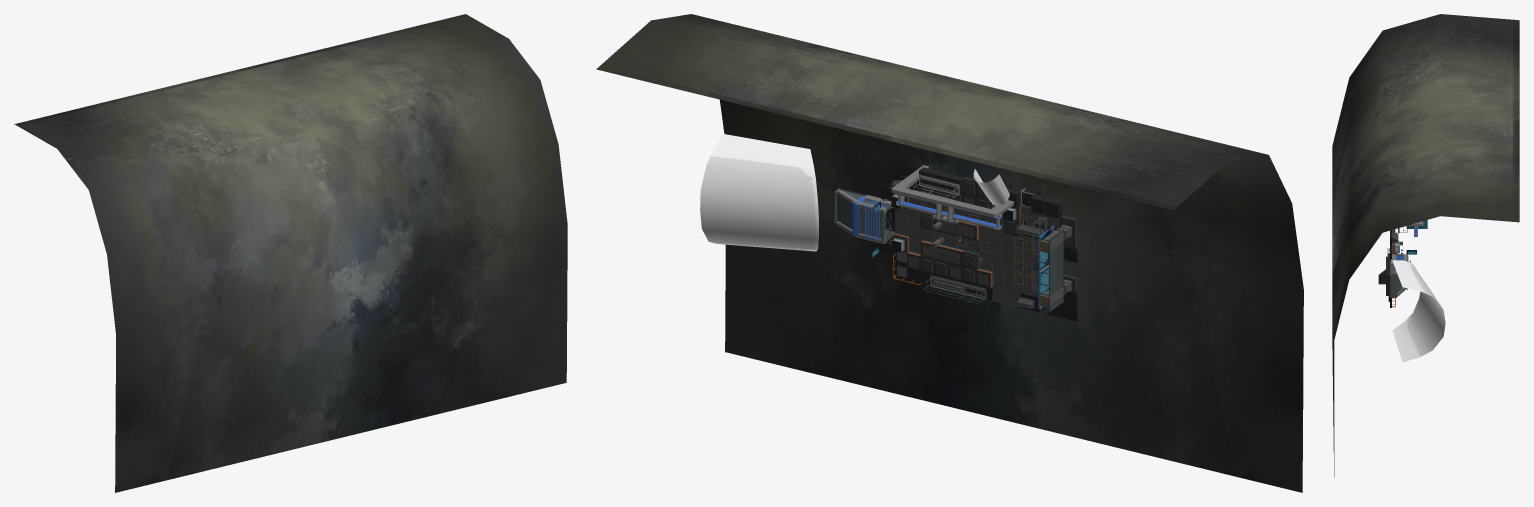
Rendered from BATTLE.fbx.
3 renders of one model, left to right at view 1: azimuth 30°, elevation 25°; view 2: azimuth 150°, elevation 25°; view 3: azimuth 270°, elevation 25°, orthographic. The views are drawn at different scales.
Parts seen in each view (by area): view 1: BG_LMC; view 2: BG_LMC, S_outworld_lightfog1, S_outworld_station, S_outworld_guanggaopai, S_outworld_cube67, S_outworld_structure_sign, S_outworld_parts28; view 3: BG_LMC, S_outworld_lightfog1, S_outworld_station.
Boxes of the visible parts, x1,y1,x2,y2 form: BG_LMC: (14,14,567,492); BG_LMC: (596,14,1303,492); S_outworld_lightfog1: (700,134,818,251); S_outworld_station: (834,188,894,243); S_outworld_guanggaopai: (1038,225,1071,311); S_outworld_cube67: (891,165,1025,217); S_outworld_structure_sign: (895,194,1002,230); S_outworld_parts28: (924,275,986,303); BG_LMC: (1332,14,1519,477); S_outworld_lightfog1: (1392,260,1445,362); S_outworld_station: (1378,253,1408,297).
Size of the model in its own units: 0.4132 by 0.2638 by 0.1616.
